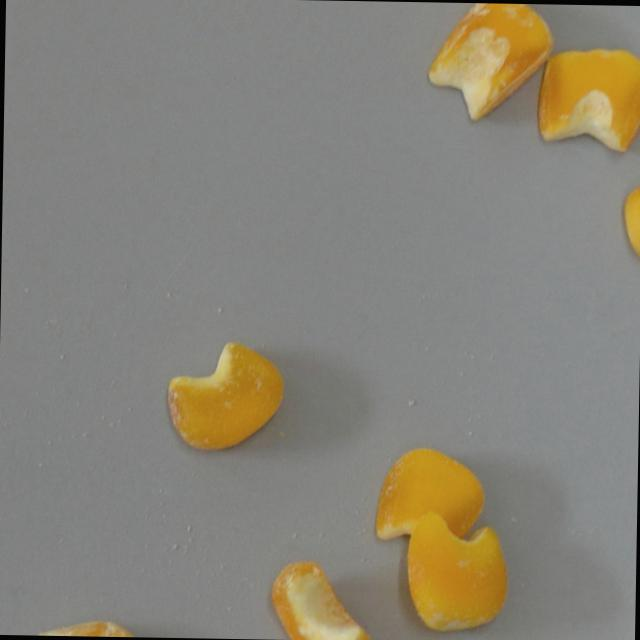no_canjicado: (403, 512, 509, 632), (373, 445, 486, 549), (623, 173, 640, 262)
pelicula: (165, 347, 289, 445), (537, 40, 640, 156), (445, 2, 537, 116), (281, 555, 357, 640), (28, 618, 153, 637)
